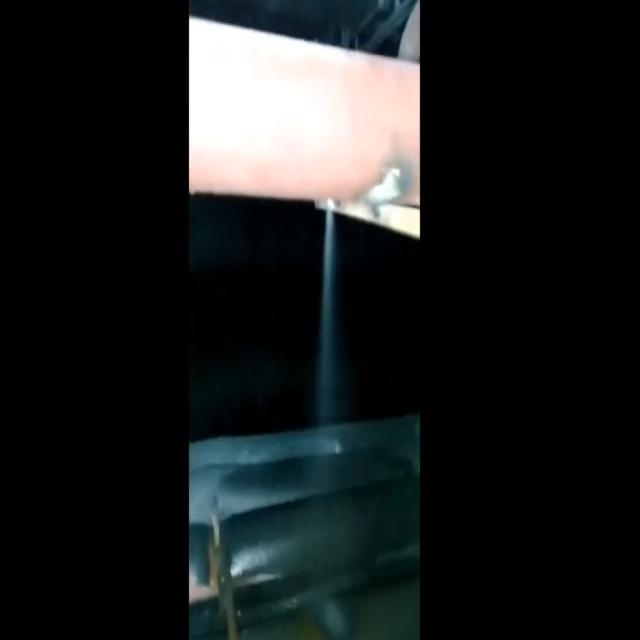leak: (316, 202, 336, 422)
